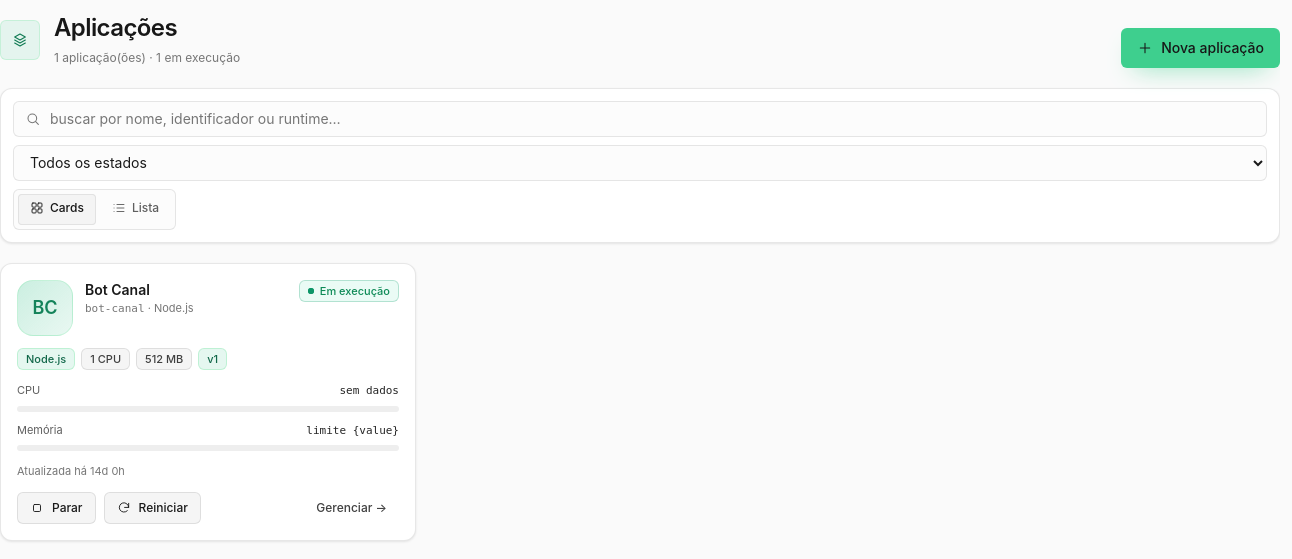
tela de Aplicações › alterna para a lista e guarda a preferência
This screenshot has width=1292, height=559.
Click the button "Lista": (136, 209) [100,194,171,224]
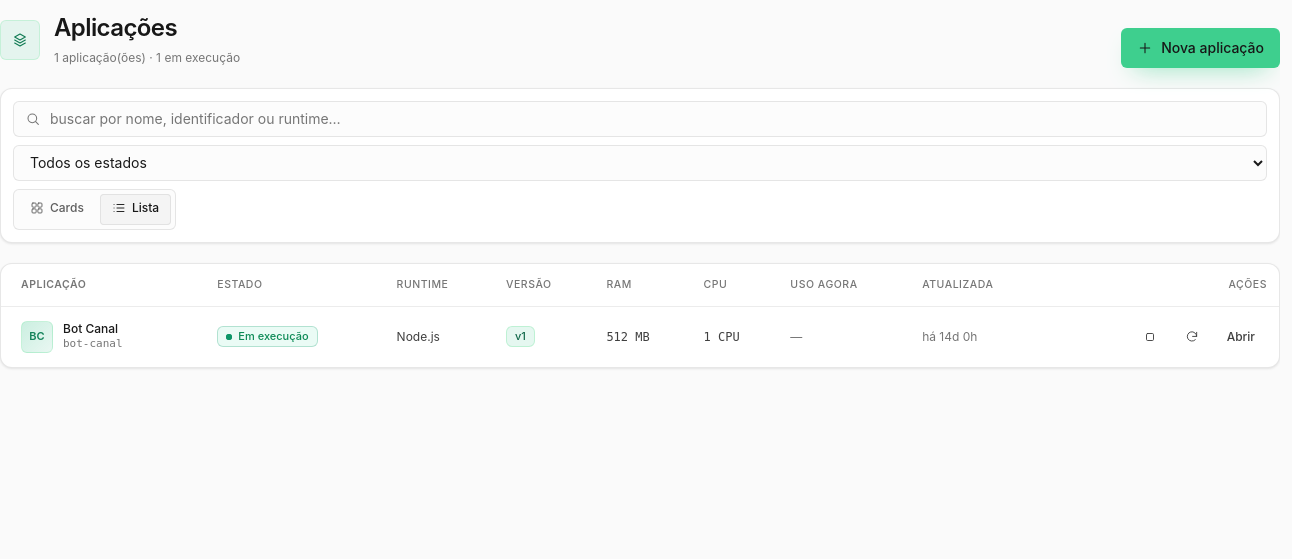
Expected: the table is shown, [1,264,1279,366]
